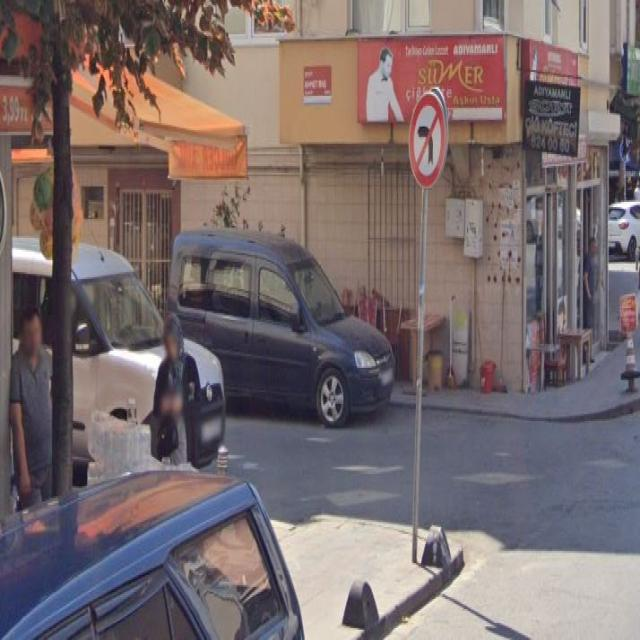soladonulmez: (408, 92, 444, 188)
